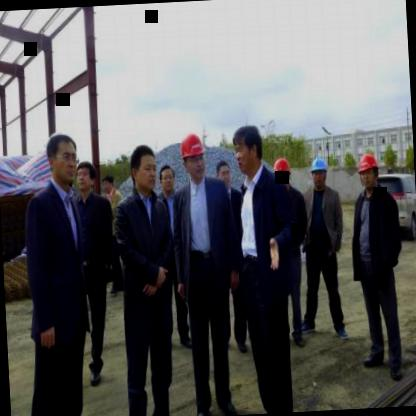head: (44, 130, 82, 189), (231, 119, 265, 179), (126, 141, 160, 200), (74, 156, 96, 198), (158, 158, 178, 196), (214, 158, 232, 190), (99, 168, 117, 196)
helmet: (178, 127, 206, 180), (357, 149, 383, 193), (270, 153, 294, 196), (307, 152, 332, 190)
